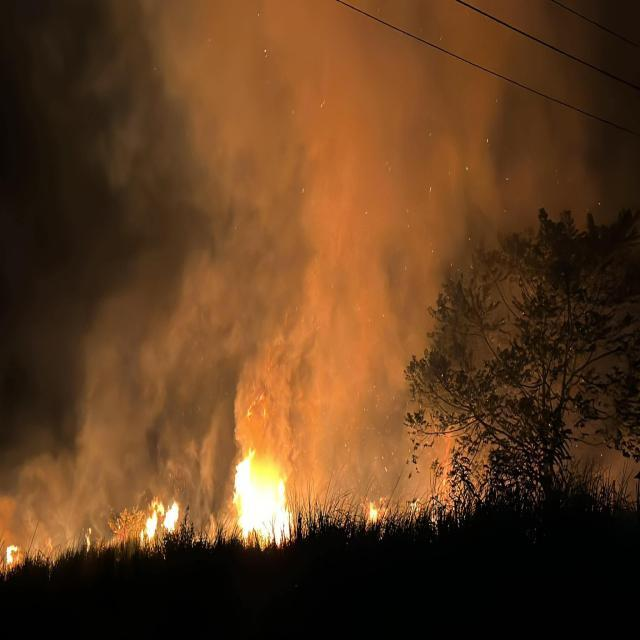Fire: (7, 454, 138, 540), (233, 458, 300, 542), (130, 496, 189, 534)
Smoke: (67, 174, 406, 448), (79, 3, 640, 163)
